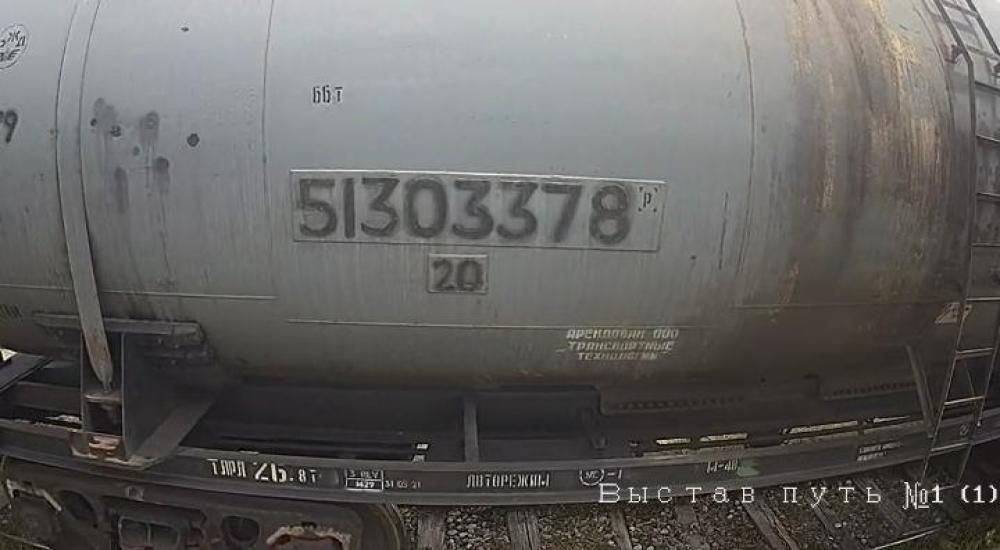Wagon-number: (291, 167, 637, 251)
